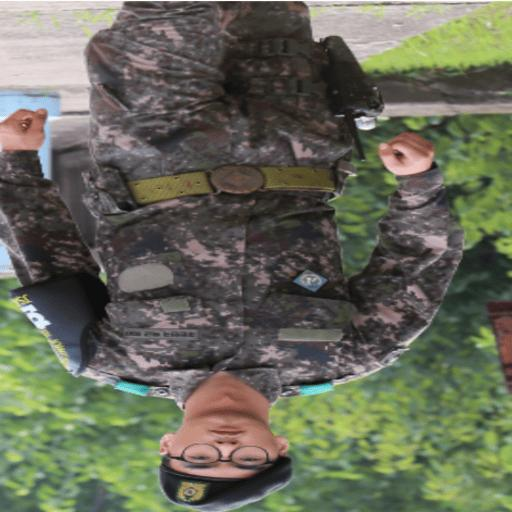korea army: (0, 9, 463, 511)
